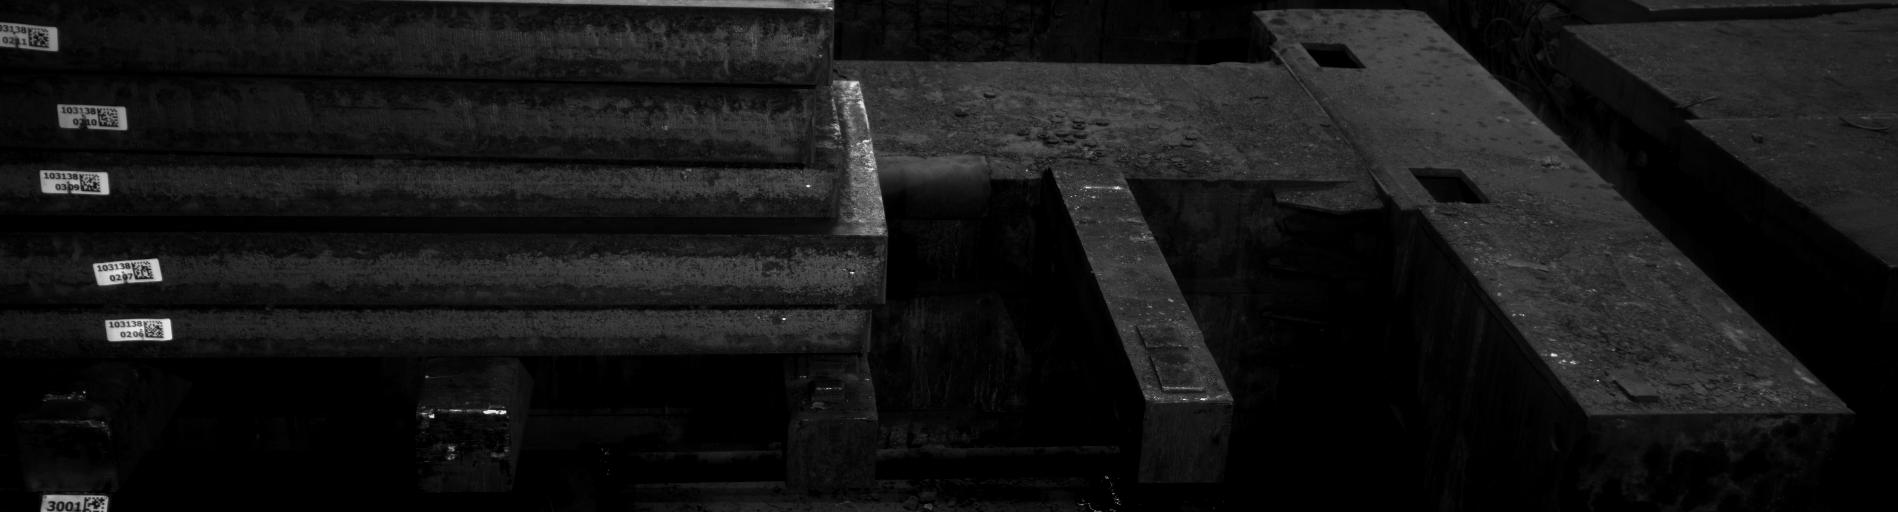data matrix: (28, 27, 51, 50), (97, 107, 120, 130), (80, 173, 103, 195), (131, 261, 155, 282), (144, 320, 166, 340), (82, 497, 108, 512)
